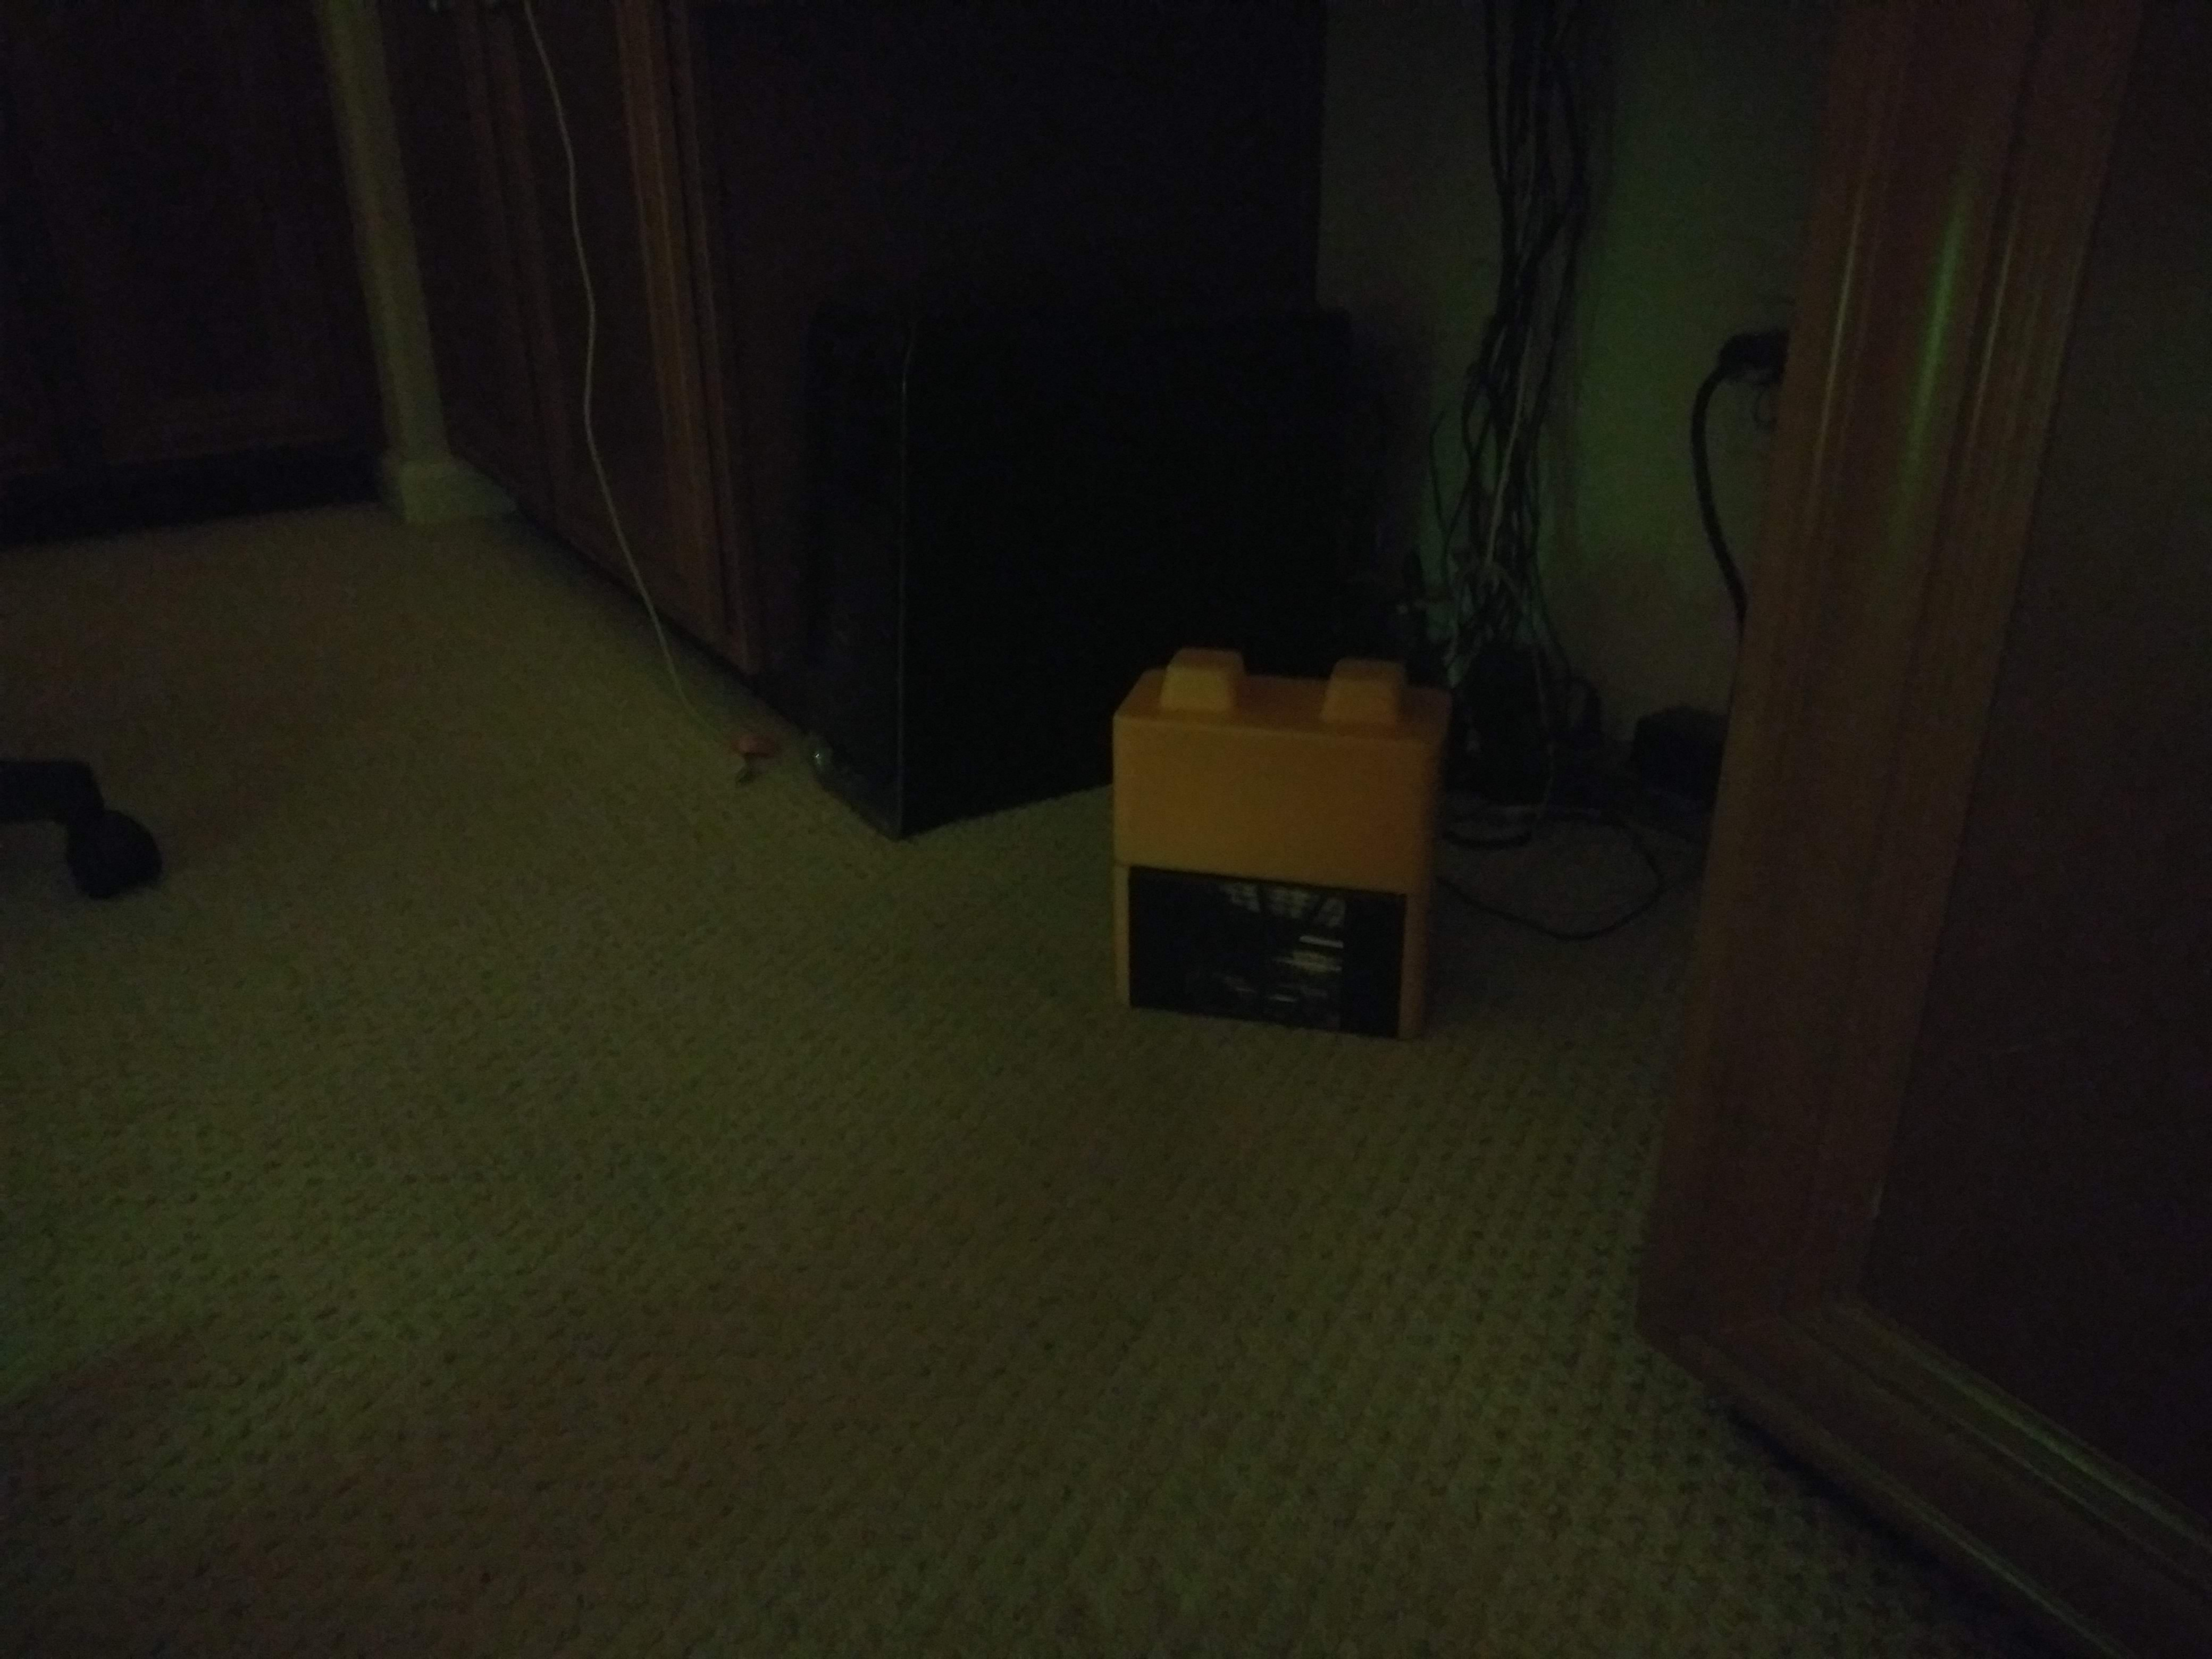skystone: (1103, 864, 1418, 1033)
stone: (1103, 676, 1446, 864)
